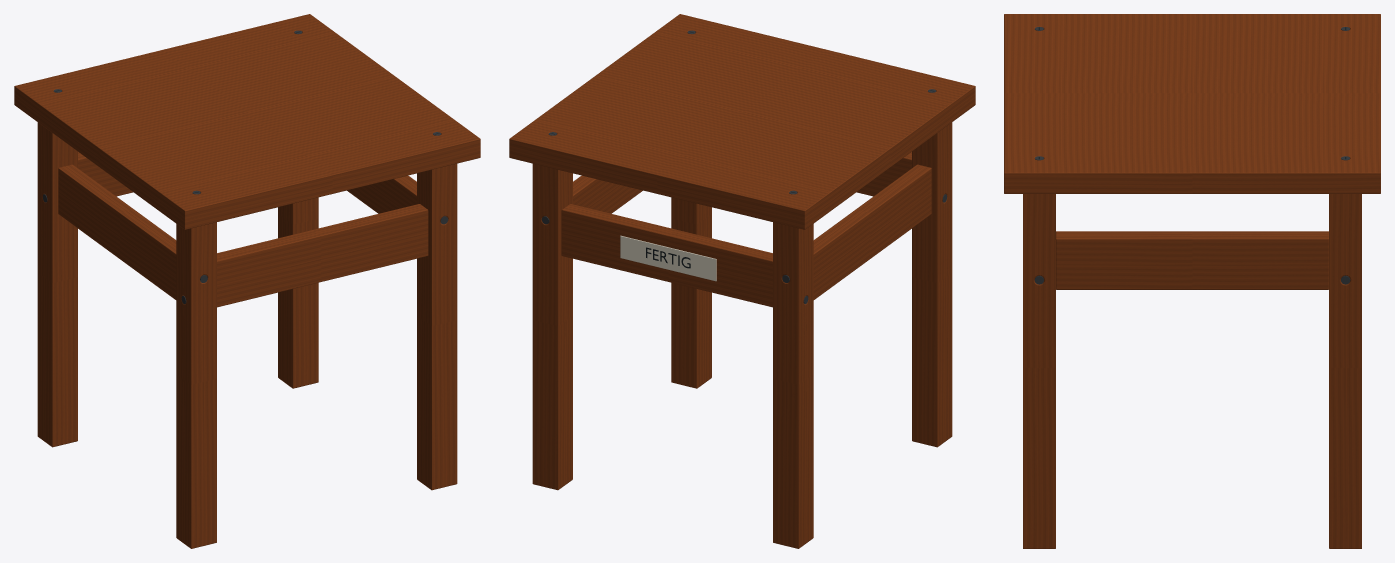
File: Hocker01_Finish.fbx
3 views of the same model, side by side, from view 1: azimuth 30°, elevation 25°; view 2: azimuth 150°, elevation 25°; view 3: azimuth 270°, elevation 25° (orthographic). The views are drawn at different scales.
Visible parts, largest first — view 1: Seat__WoodFinish.004, Leg_1__WoodFinish.004, Leg_3__WoodFinish.004, RailX_1__WoodFinish.004, Leg_2__WoodFinish.004, RailY_1__WoodFinish.004, Leg_4__WoodFinish.004, RailY_2__WoodFinish.004, RailX_2__WoodFinish.004; view 2: Seat__WoodFinish.004, Leg_2__WoodFinish.004, Leg_4__WoodFinish.004, Leg_1__WoodFinish.004, RailX_2__WoodFinish.004, RailY_1__WoodFinish.004, Leg_3__WoodFinish.004, StagePlaque__Label.009, RailY_2__WoodFinish.004, RailX_1__WoodFinish.004; view 3: Seat__WoodFinish.004, RailY_2__WoodFinish.004, Leg_3__WoodFinish.004, Leg_4__WoodFinish.004.
Boxes of the visible parts, <box> form: Seat__WoodFinish.004: <box>14,14,480,229</box>; Leg_1__WoodFinish.004: <box>176,222,216,548</box>; Leg_3__WoodFinish.004: <box>417,163,457,490</box>; RailX_1__WoodFinish.004: <box>217,204,428,307</box>; Leg_2__WoodFinish.004: <box>37,122,77,447</box>; RailY_1__WoodFinish.004: <box>58,164,176,299</box>; Leg_4__WoodFinish.004: <box>278,197,318,388</box>; RailY_2__WoodFinish.004: <box>347,175,416,213</box>; RailX_2__WoodFinish.004: <box>78,152,132,196</box>; Seat__WoodFinish.004: <box>509,14,975,229</box>; Leg_2__WoodFinish.004: <box>773,222,813,548</box>; Leg_4__WoodFinish.004: <box>532,163,572,490</box>; Leg_1__WoodFinish.004: <box>912,122,952,447</box>; RailX_2__WoodFinish.004: <box>561,204,772,307</box>; RailY_1__WoodFinish.004: <box>813,164,931,299</box>; Leg_3__WoodFinish.004: <box>671,197,711,388</box>; StagePlaque__Label.009: <box>620,235,716,281</box>; RailY_2__WoodFinish.004: <box>573,175,642,213</box>; RailX_1__WoodFinish.004: <box>857,152,911,196</box>; Seat__WoodFinish.004: <box>1004,14,1380,193</box>; RailY_2__WoodFinish.004: <box>1056,231,1328,289</box>; Leg_3__WoodFinish.004: <box>1023,194,1055,548</box>; Leg_4__WoodFinish.004: <box>1329,194,1361,548</box>.
Size of the model in its own units: 40 by 45 by 40.
4 materials, 1 textured.
